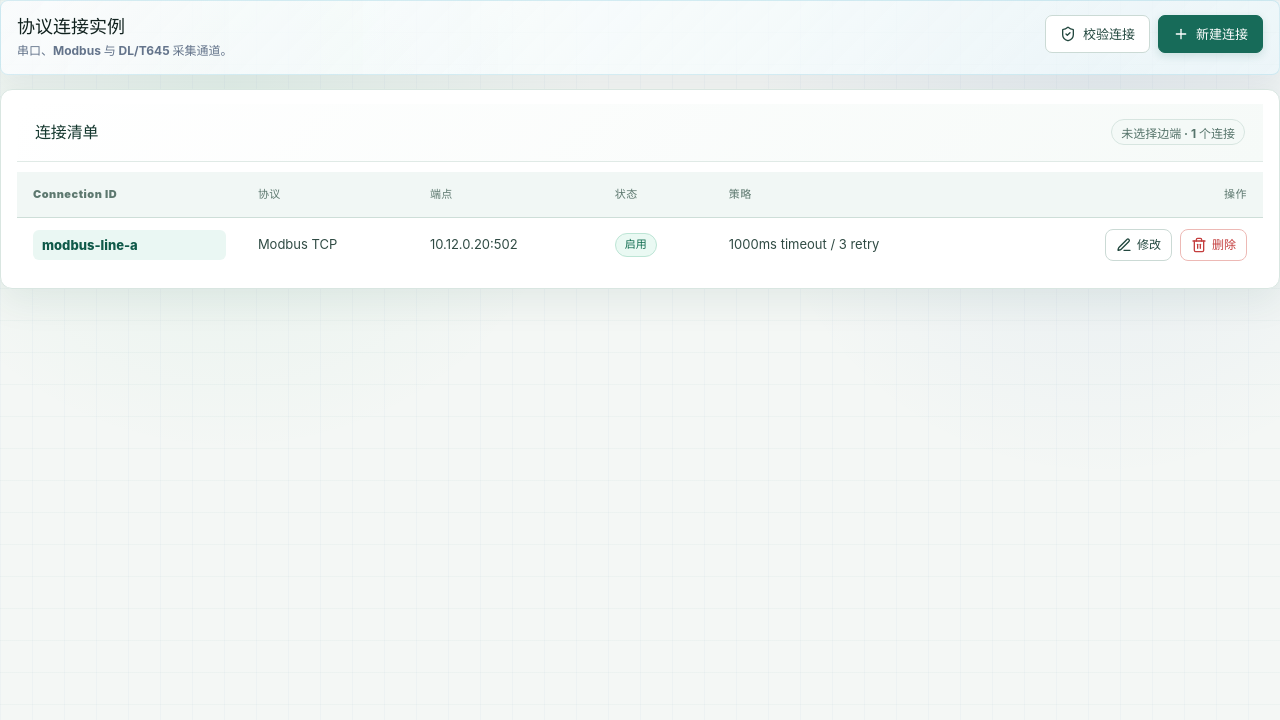
Test: ProtocolConnectionsPage › shows protocol connection table and editor fields
Expected: the heading "连接清单" is shown, top-left (35, 122), bottom-right (98, 143)
Click the button with aria-label "编辑连接 modbus-line-a": coordinates (129, 245) top-left (33, 230), bottom-right (226, 260)
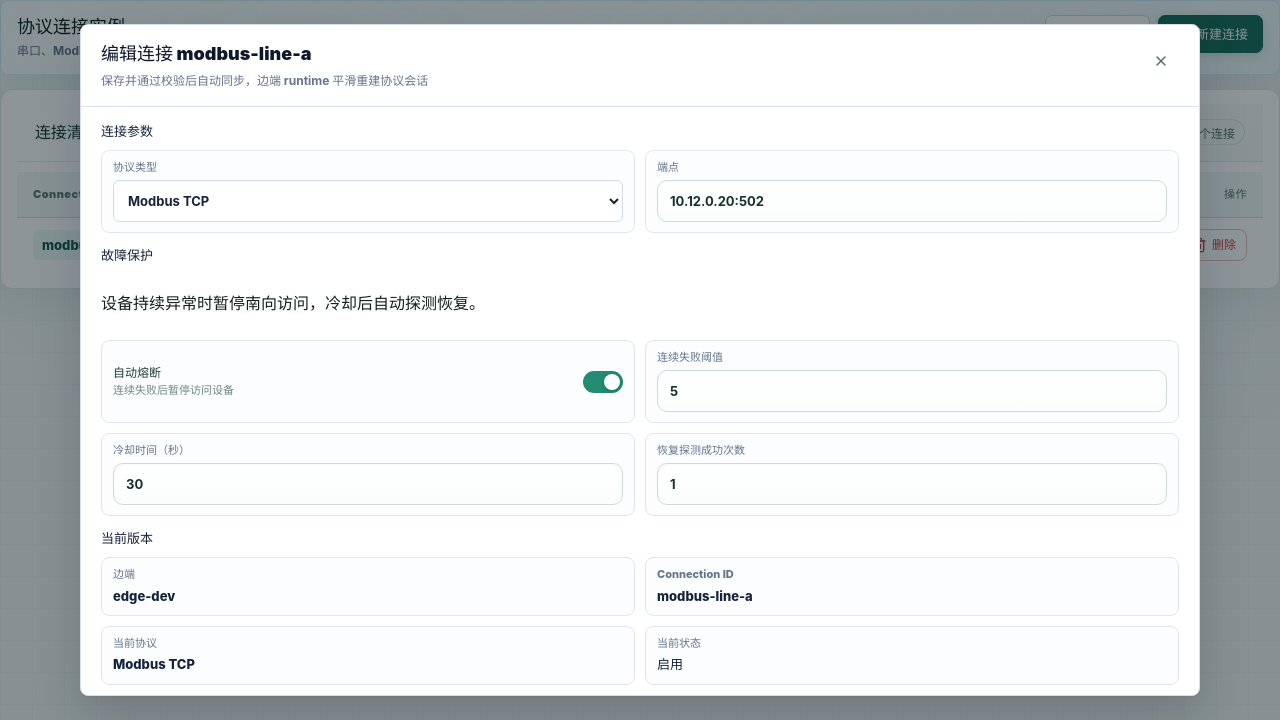
Now the heading "编辑连接 modbus-line-a" is shown, box top-left (101, 43), bottom-right (311, 64)
Now the dropdown labelled "协议类型" is shown, box top-left (113, 180), bottom-right (623, 222)
